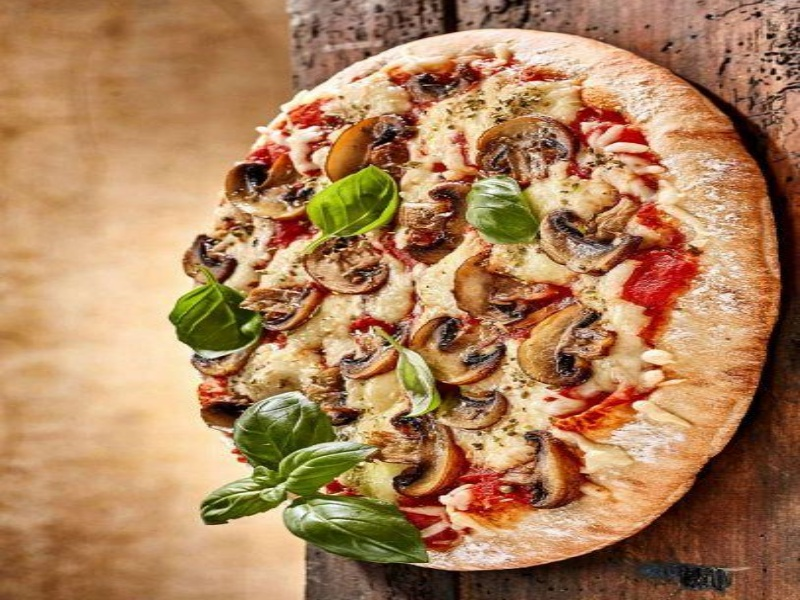champignon: (516, 294, 619, 388), (529, 194, 645, 273), (384, 401, 466, 504), (405, 313, 510, 391), (471, 113, 578, 185), (501, 427, 590, 513), (221, 159, 321, 225), (298, 232, 398, 297)
